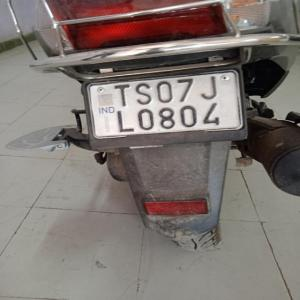Plate: (89, 68, 241, 136)
